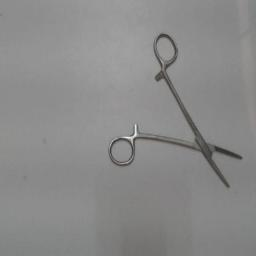Mayo Needle Holder: (106, 28, 248, 196)
